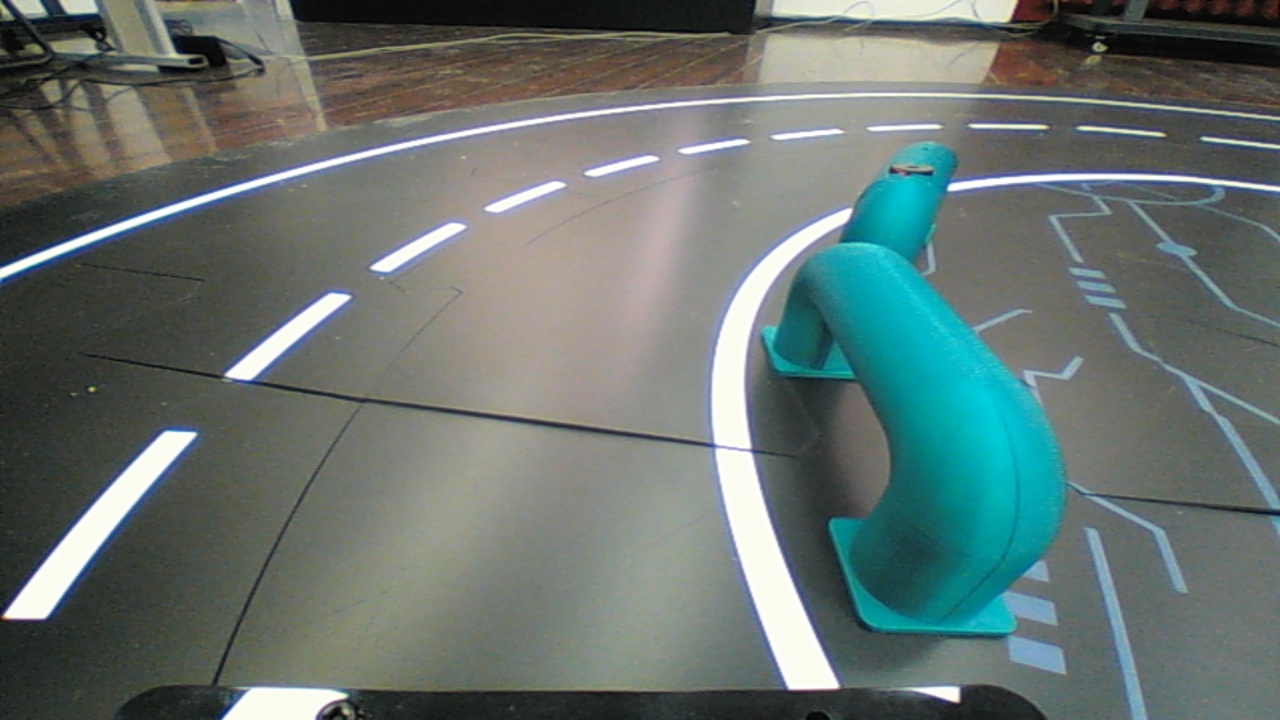No entry: (744, 225, 1085, 648)
Pedestrian crossing: (821, 135, 975, 256)
